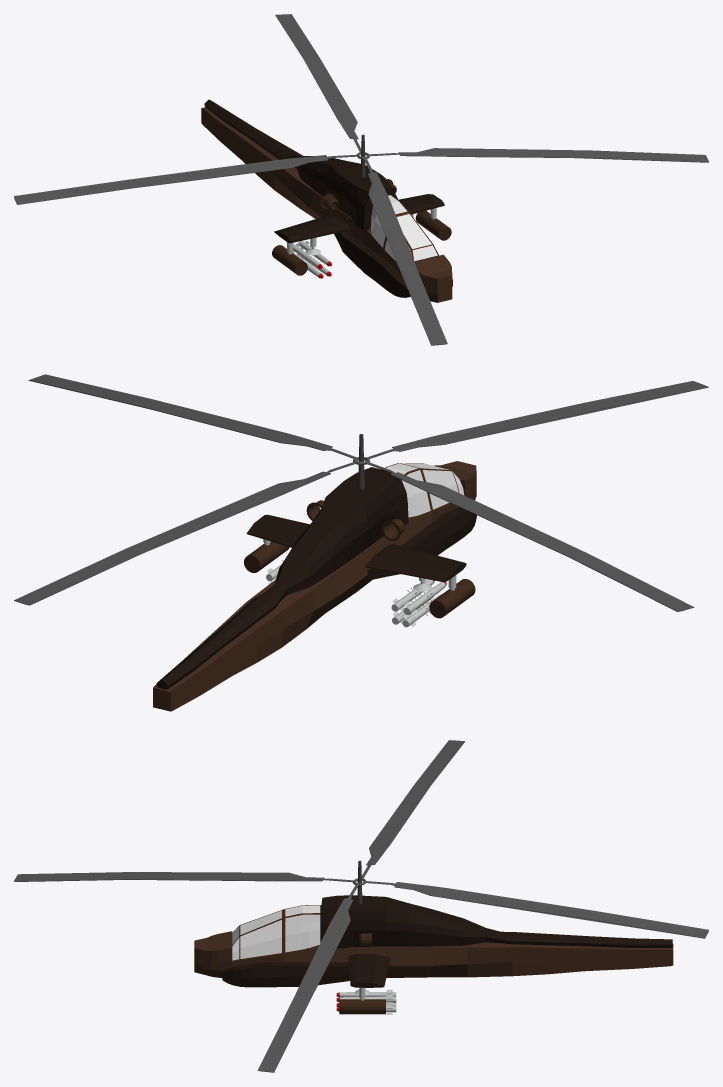
Rendered from BOSS FASE 1 (final).fbx.
3 renders of one model, top to bottom at view 1: azimuth 30°, elevation 25°; view 2: azimuth 150°, elevation 25°; view 3: azimuth 270°, elevation 25°, orthographic. The views are drawn at different scales.
Visible parts, largest first — view 1: HÉLICE, CANOPY, CORPO, ASA, CANOPY.vidro.001, ARMA, ARMA MISSEIS.001; view 2: HÉLICE, CANOPY, CORPO, ASA, CANOPY.vidro.001, ARMA, ARMA MISSEIS.001, motor1; view 3: HÉLICE, CORPO, CANOPY, CANOPY.vidro.001, ASA, ARMA, CANOPY.vidro, ARMA MISSEIS.001.
Boxes of the visible parts, <box> form: HÉLICE: <box>14,14,708,345</box>; CANOPY: <box>204,99,452,297</box>; CORPO: <box>201,107,452,302</box>; ASA: <box>274,194,444,243</box>; CANOPY.vidro.001: <box>370,195,437,261</box>; ARMA: <box>272,211,451,275</box>; ARMA MISSEIS.001: <box>292,240,329,277</box>; HÉLICE: <box>14,374,708,611</box>; CANOPY: <box>156,467,476,689</box>; CORPO: <box>153,461,476,711</box>; ASA: <box>246,514,466,582</box>; CANOPY.vidro.001: <box>386,463,464,517</box>; ARMA: <box>244,541,475,618</box>; ARMA MISSEIS.001: <box>266,564,445,627</box>; motor1: <box>306,500,404,541</box>; HÉLICE: <box>14,740,708,1072</box>; CORPO: <box>194,931,673,977</box>; CANOPY: <box>222,895,672,987</box>; CANOPY.vidro.001: <box>232,905,320,960</box>; ASA: <box>348,954,390,987</box>; ARMA: <box>339,999,385,1014</box>; CANOPY.vidro: <box>232,905,320,960</box>; ARMA MISSEIS.001: <box>339,989,396,1014</box>.
Bounding box in the file's own units: 1911 × 376 × 1886.
